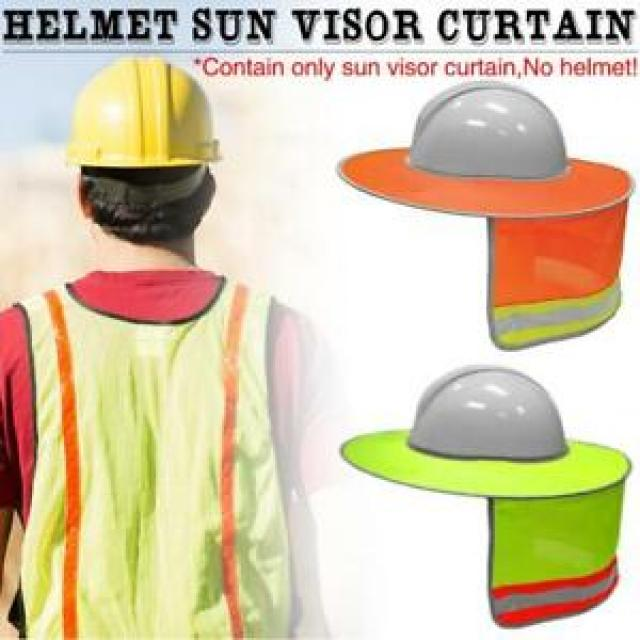Reflective-Jacket: (0, 262, 307, 638), (333, 371, 640, 632)
Safety-Helmet: (322, 79, 640, 352), (56, 51, 232, 177)
